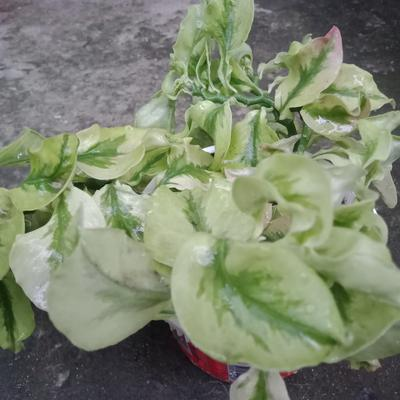Pothos plant: (50, 30, 383, 333)
